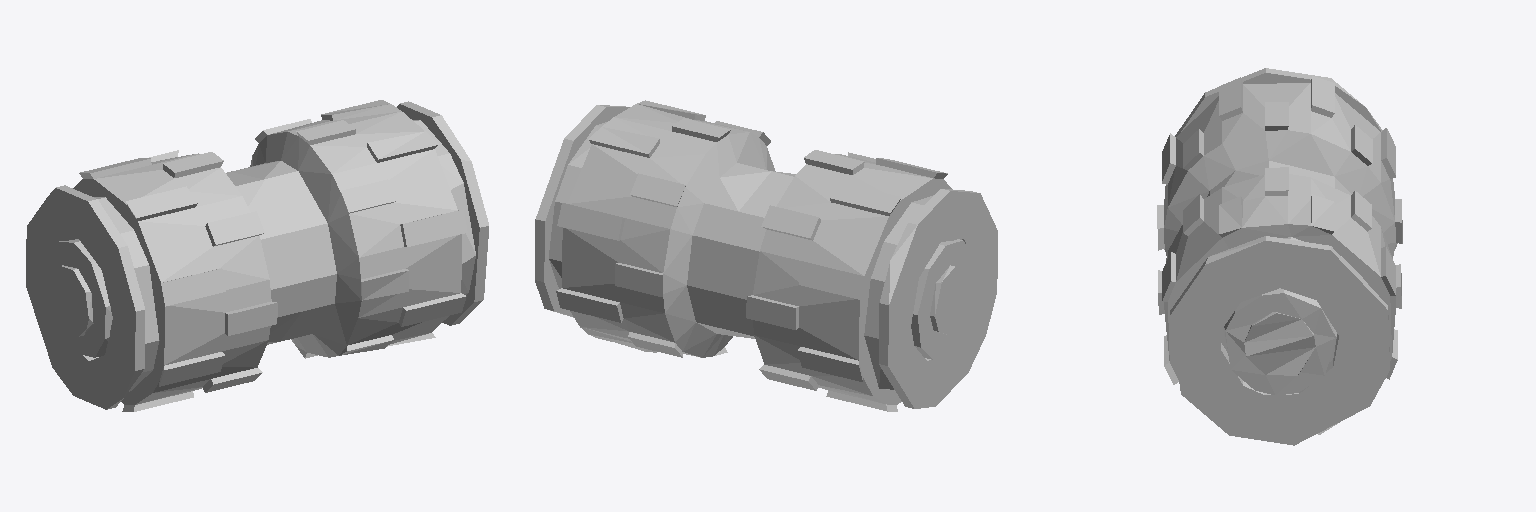
Rendered from Kola_000003.obj.
3 views of the same model, side by side, from view 1: azimuth 30°, elevation 25°; view 2: azimuth 150°, elevation 25°; view 3: azimuth 270°, elevation 25° (orthographic).
Visible parts, largest first — view 1: Cylinder.004; view 2: Cylinder.004; view 3: Cylinder.004.
Part boxes in pixels (x1,y1,x2,y2): Cylinder.004: (26,100,488,411); Cylinder.004: (535,100,997,411); Cylinder.004: (1157,68,1402,445).
Bounding box in the file's own units: 2.17 × 1.25 × 1.25.